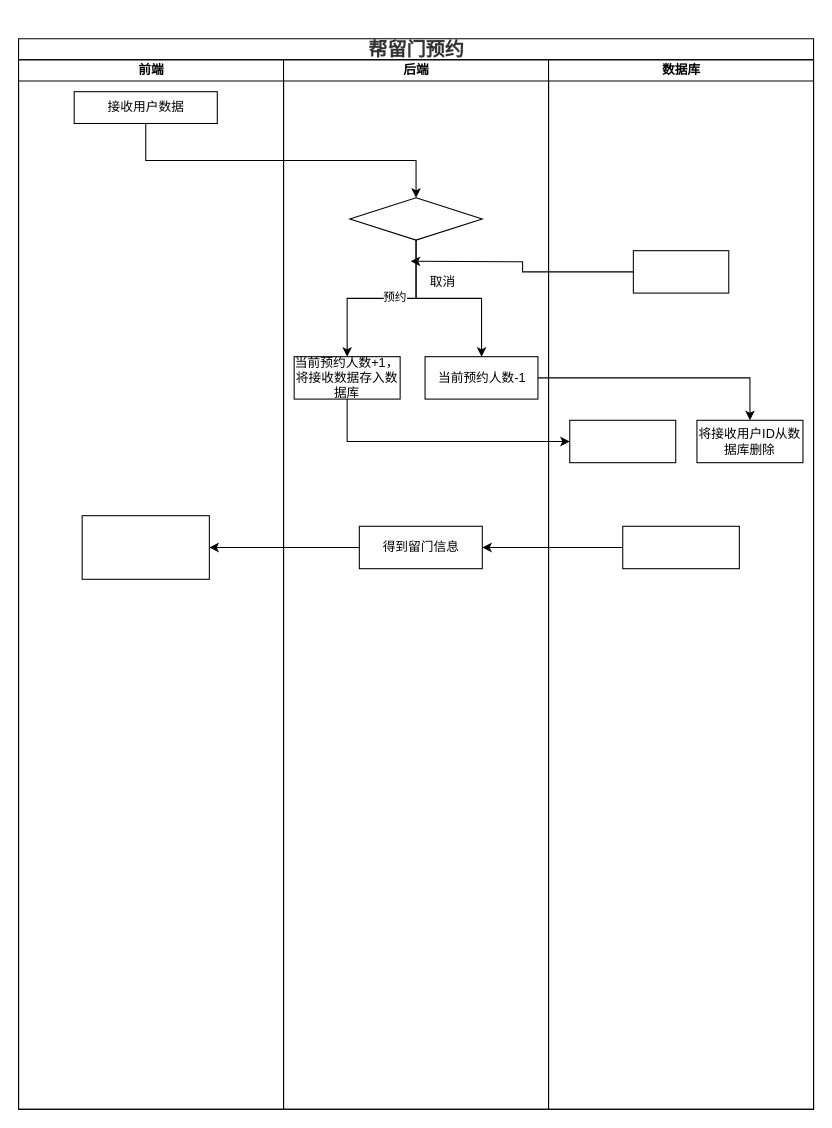
Some shapes in this 832 by 1128 pixel diagram are drawn without their labels. Each missing label, with the centre of its shape:
"从数据库取出当前预约人数" belongs at pixel 680 271.
"从数据库取出所有留门信息" belongs at pixel 680 547.
"将接收数据存入数据库" belongs at pixel 622 441.
"显示当前等待帮留门人数，和数据库内录卡信息详情" belongs at pixel 145 547.
"预约or取消" belongs at pixel 415 218.
